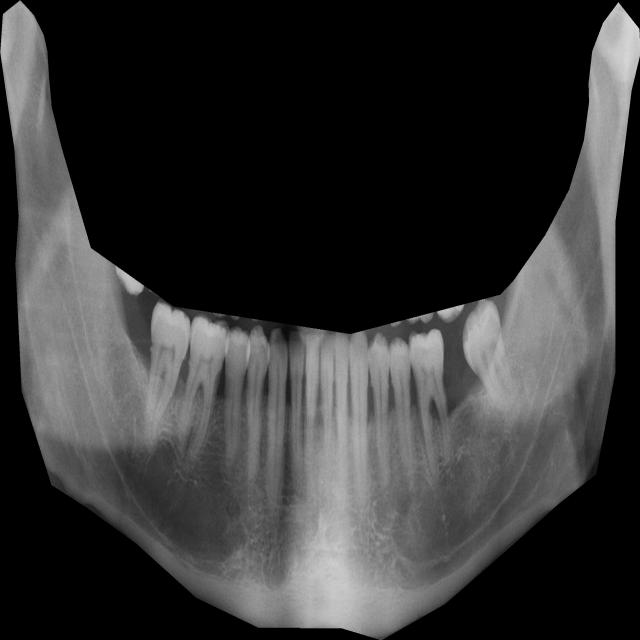mandibula: (0, 0, 640, 640)
